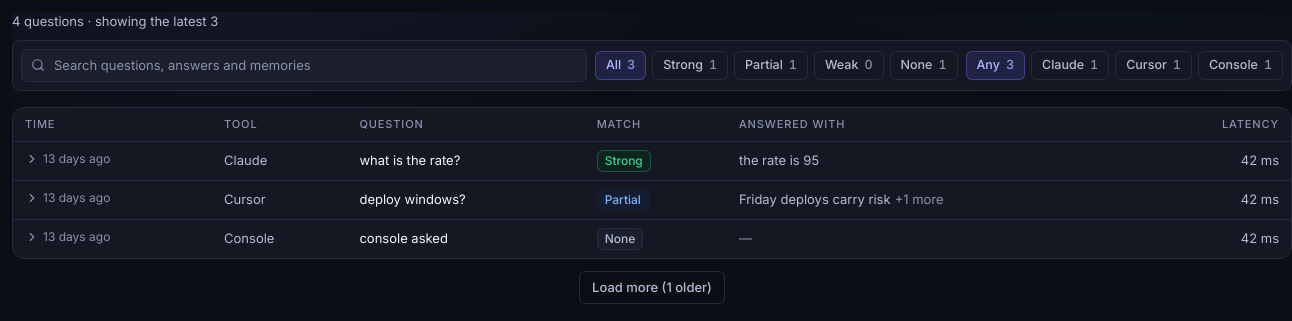
Query log (Refine PR 11) › names the tool and the memories that answered, never an id, and counts the chips
Expected: the text "4 questions · showing the latest 3" is shown, [12,13,218,29]
Expected: the text "Cursor" is shown, [212,180,347,219]
Click the button "Cursor 1".
click(1154, 65)  # box [1115,51,1192,80]
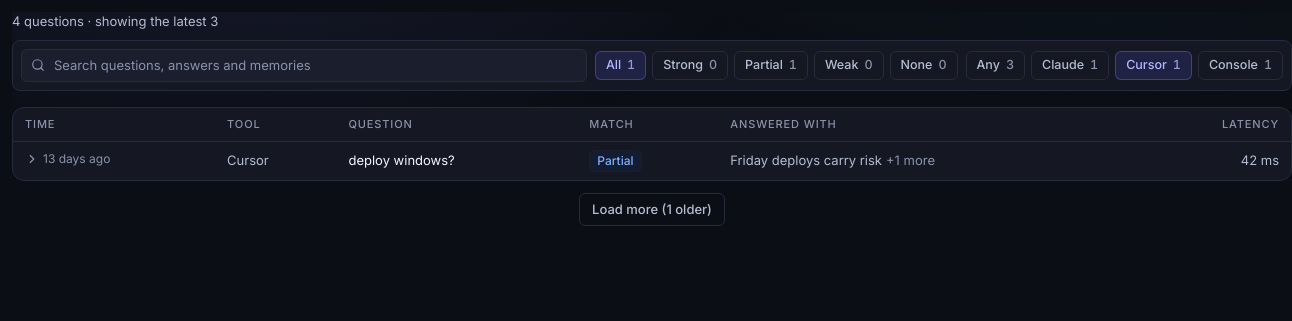
Expected: the text "deploy windows?" is shown, [336,141,577,180]
Result: the text "what is the rate?" is gone
